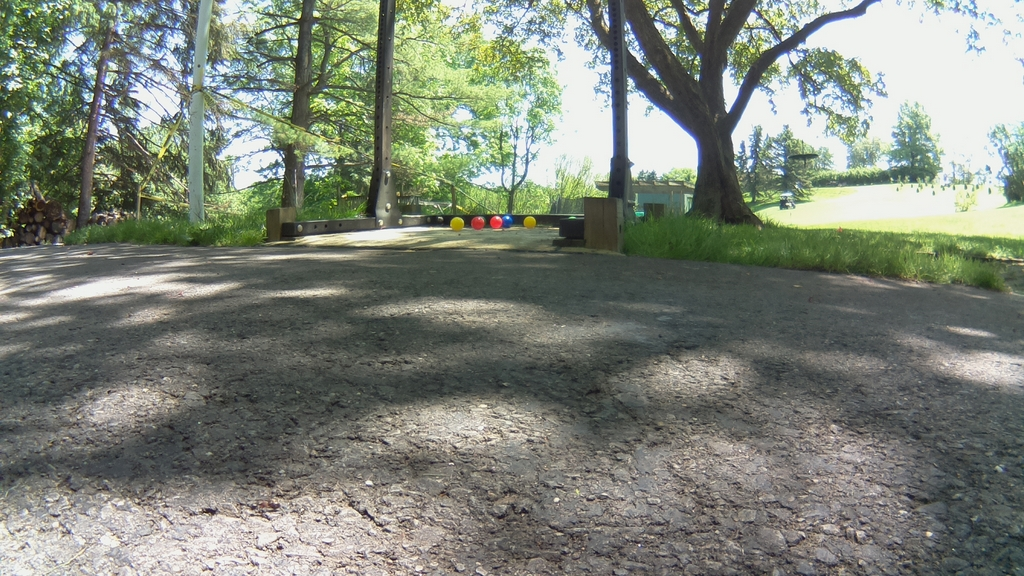ball: (450, 216, 463, 232)
